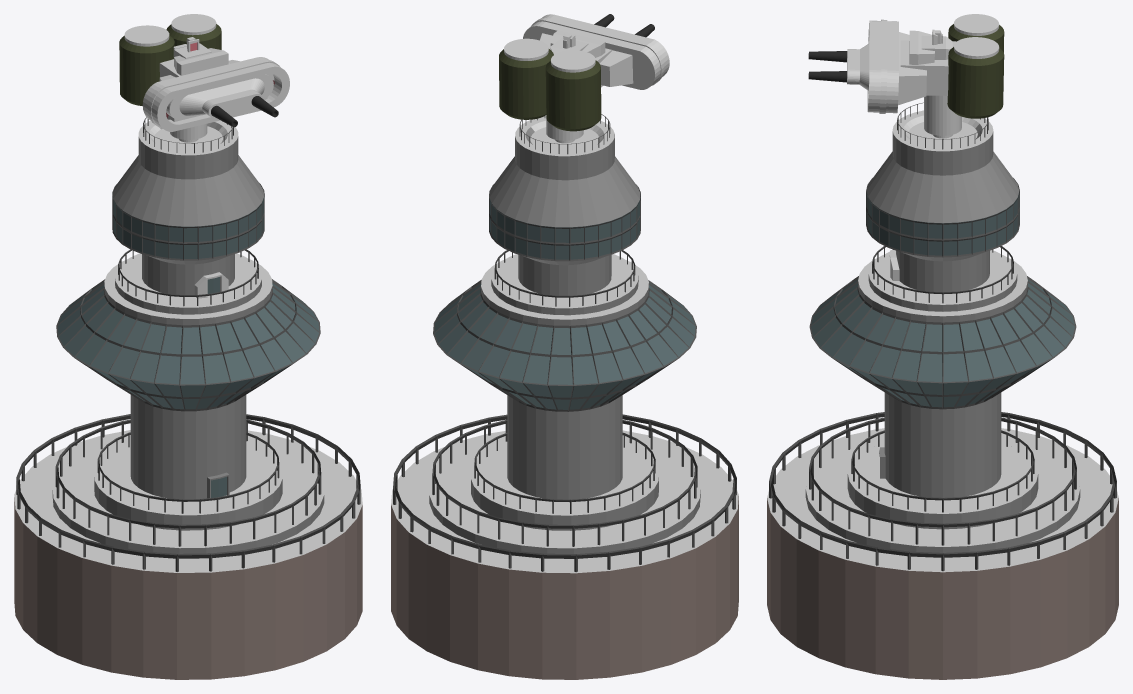
Rendered from earthturret.dae.
3 renders of one model, left to right at view 1: azimuth 30°, elevation 25°; view 2: azimuth 150°, elevation 25°; view 3: azimuth 270°, elevation 25°, orthographic.
Parts seen in each view (by area): view 1: pared, suelos, torre, ventanas, marcos, retrocesador, arma, puertas; view 2: pared, suelos, torre, ventanas, marcos, arma, retrocesador; view 3: pared, torre, suelos, ventanas, marcos, arma, retrocesador, plataforma.
Boxes of the visible parts, box(x1,y1,x2,y2) form: pared: box(14, 497, 362, 679); suelos: box(14, 120, 362, 572); torre: box(52, 122, 324, 553); ventanas: box(57, 193, 319, 409); marcos: box(16, 117, 360, 571); retrocesador: box(142, 57, 289, 131); arma: box(119, 14, 267, 121); puertas: box(194, 272, 228, 497); pared: box(391, 496, 738, 679); suelos: box(391, 116, 738, 573); torre: box(429, 127, 700, 553); ventanas: box(434, 194, 695, 409); marcos: box(393, 114, 736, 572); arma: box(499, 30, 633, 131); retrocesador: box(523, 14, 669, 89); pared: box(767, 498, 1118, 679); torre: box(805, 124, 1080, 552); suelos: box(767, 110, 1118, 572); ventanas: box(811, 192, 1074, 407); marcos: box(769, 102, 1116, 571); arma: box(898, 14, 1004, 118); retrocesador: box(847, 19, 898, 113); plataforma: box(924, 95, 961, 138).
Size of the model in its own units: 158 by 158 by 284.
